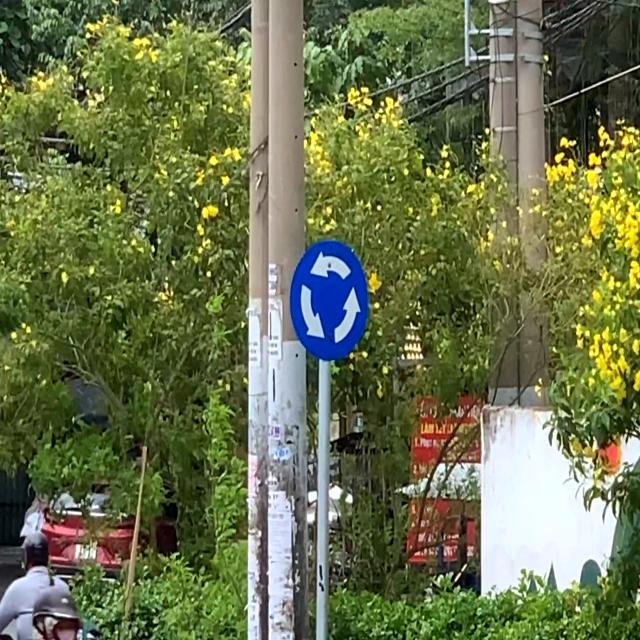R.303: (289, 239, 368, 362)
